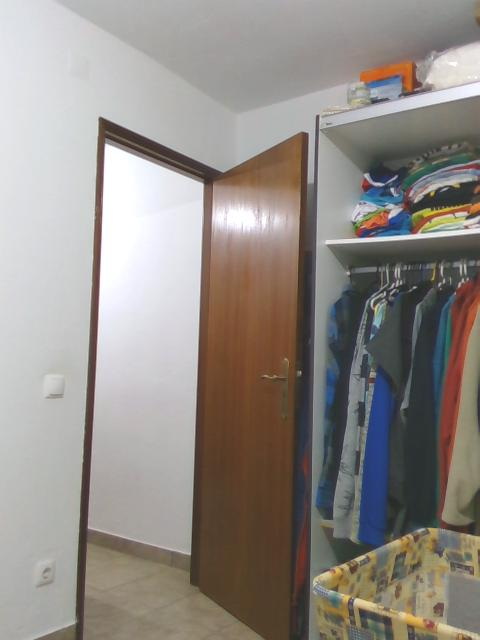open_door: (80, 112, 228, 639)
